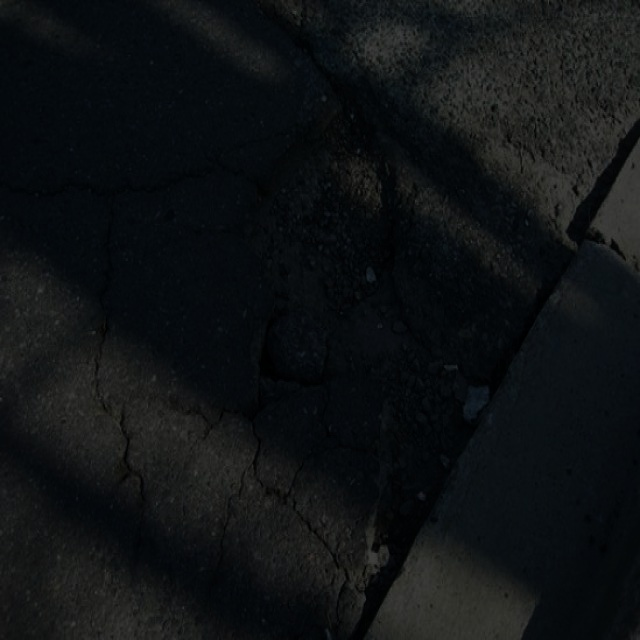Pothole: (232, 85, 494, 612)
